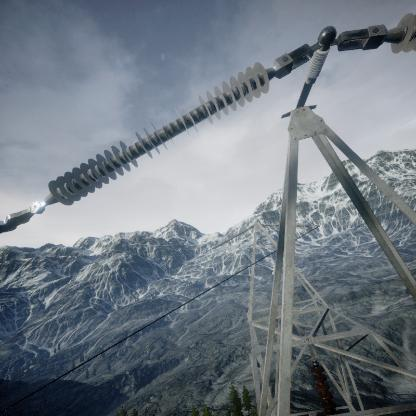insulator: (45, 61, 273, 217)
